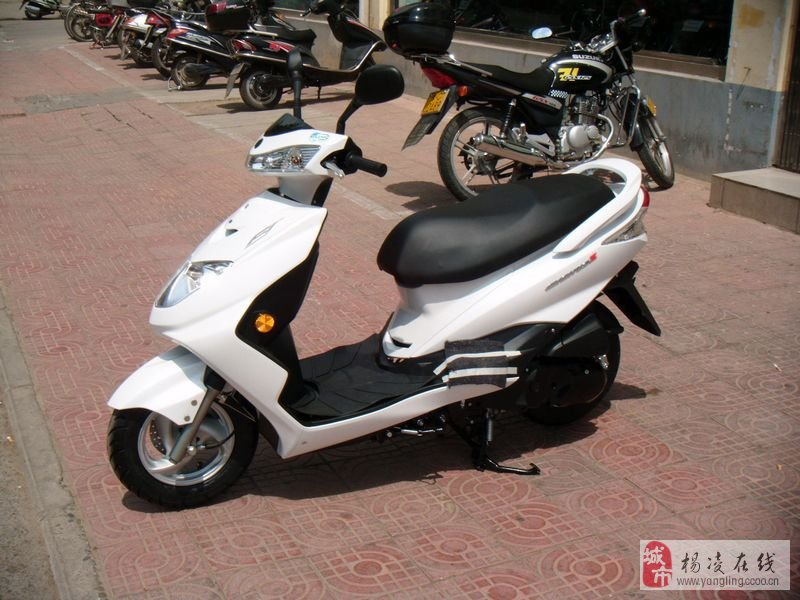non-vehicle: (102, 111, 651, 509), (384, 3, 676, 206), (231, 0, 386, 113), (165, 0, 240, 89)
